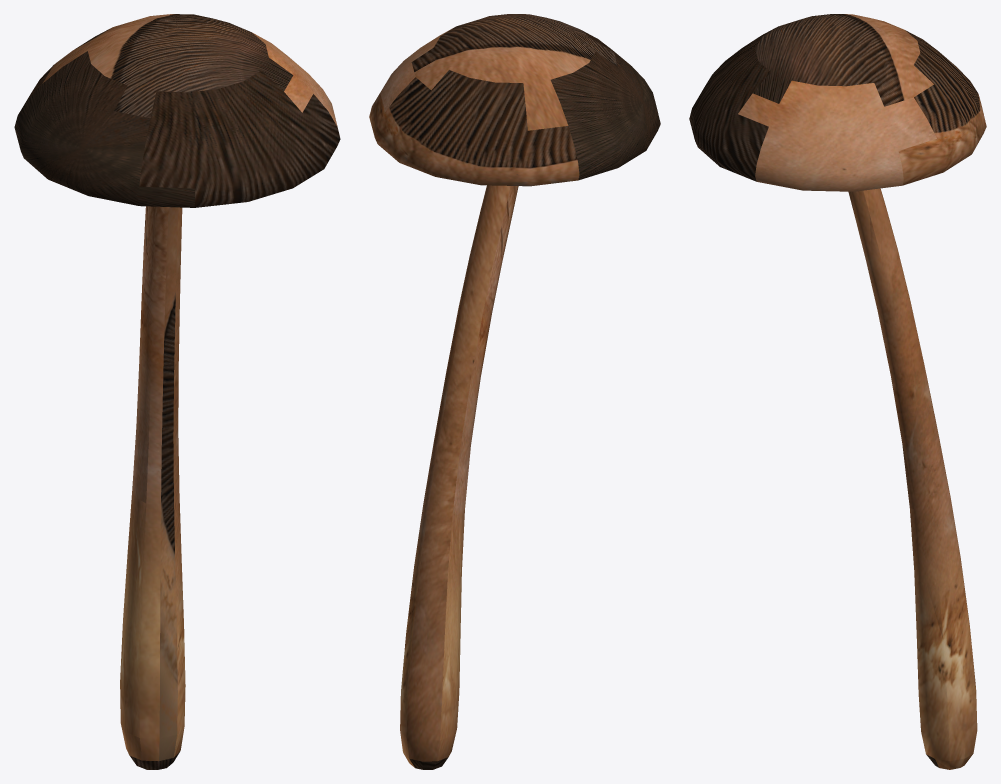
File: MushroomBrownBig_LOD0.dae
The picture shows the model from 3 angles, left to right: view 1: azimuth 30°, elevation 25°; view 2: azimuth 150°, elevation 25°; view 3: azimuth 270°, elevation 25°; orthographic projection. The views are drawn at different scales.
Parts seen in each view (by area): view 1: MushroomBrownBig_LOD0; view 2: MushroomBrownBig_LOD0; view 3: MushroomBrownBig_LOD0.
Boxes of the visible parts, left/top/right/bottom form: MushroomBrownBig_LOD0: left=14, top=14, right=340, bottom=769; MushroomBrownBig_LOD0: left=369, top=14, right=660, bottom=769; MushroomBrownBig_LOD0: left=689, top=14, right=986, bottom=769.
Bounding box in the file's own units: 0.2265 × 0.6092 × 0.2273.
